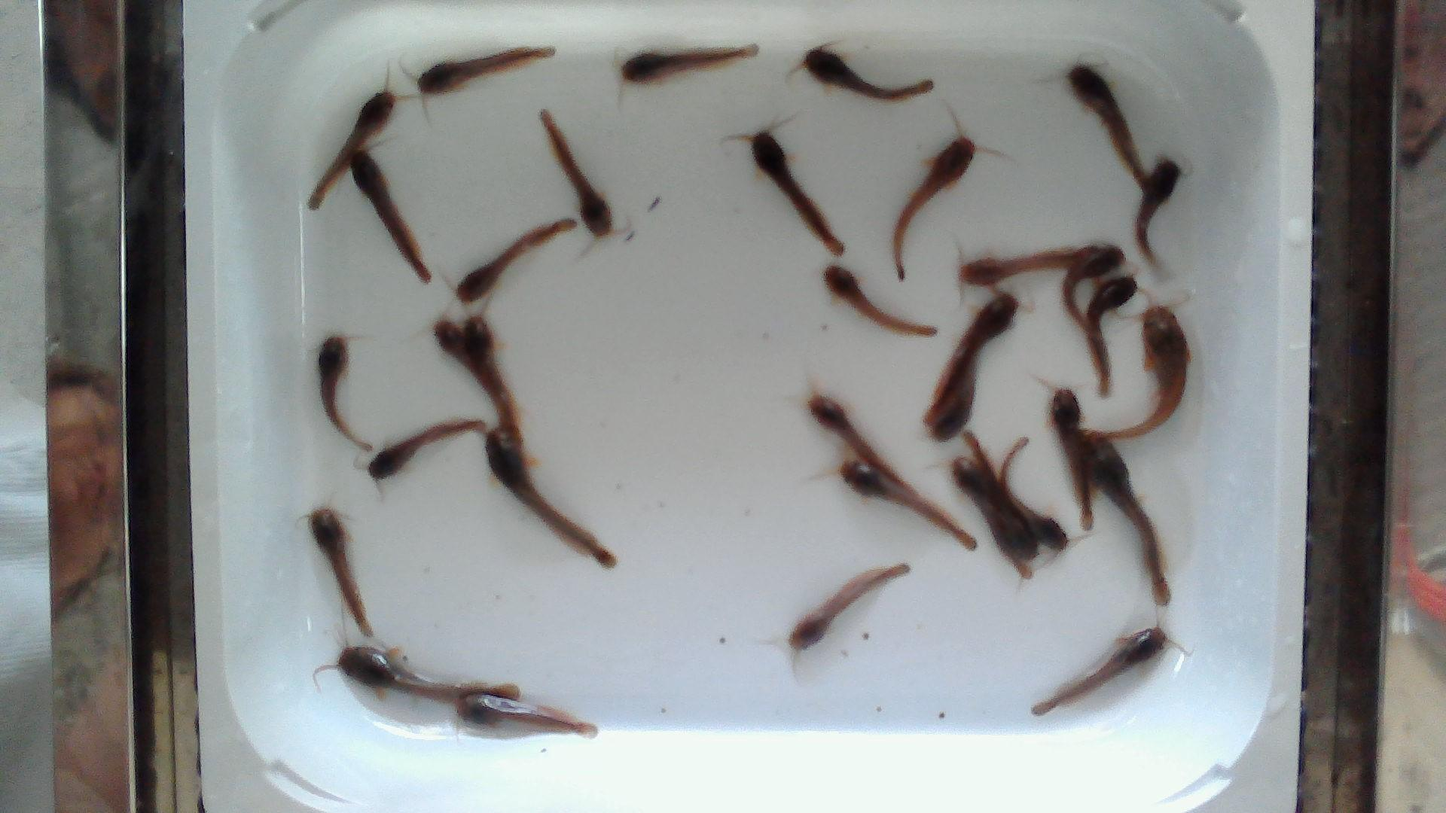lele: (486, 429, 616, 568), (1078, 432, 1169, 601), (1092, 307, 1191, 439), (839, 461, 976, 551), (1032, 626, 1167, 714), (750, 131, 844, 256), (893, 136, 975, 279), (926, 298, 1019, 423), (811, 392, 920, 494), (350, 151, 431, 282), (951, 456, 1035, 582), (789, 563, 909, 650), (958, 432, 1039, 560), (339, 647, 519, 703), (457, 220, 576, 303), (1067, 65, 1149, 184), (311, 91, 395, 206), (541, 111, 612, 236), (462, 315, 527, 446), (310, 508, 373, 636), (999, 438, 1067, 555), (825, 264, 935, 336), (367, 416, 488, 480), (802, 47, 932, 101), (434, 320, 502, 412), (418, 48, 554, 93), (1050, 388, 1093, 529), (1086, 277, 1136, 397), (319, 338, 372, 450), (1064, 244, 1127, 338), (454, 695, 598, 736), (960, 245, 1107, 285), (621, 45, 757, 82), (927, 357, 977, 441), (1136, 160, 1179, 257)
